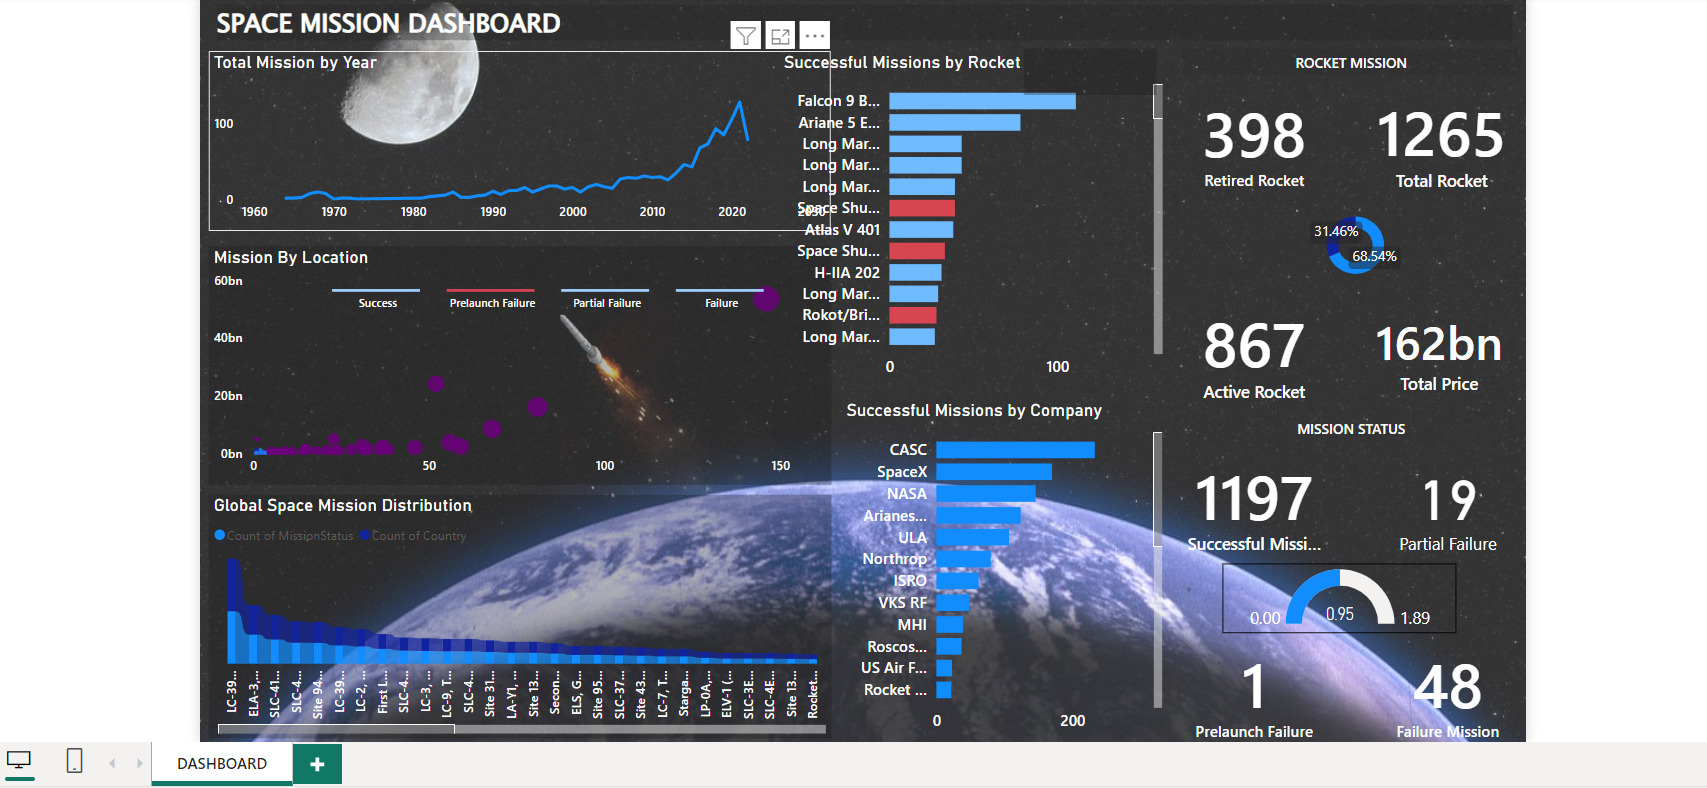

The page's visual inventory and layout, read from the dashboard file:
{"tool":"powerbi","page":{"name":"DASHBOARD","canvas":[1280,720],"ordinal":0},"visuals":[{"type":"shape","box":[8.4,0,1266.3,50.7],"z":0},{"type":"lineChart","fields":{"Y":["space_missions.Total Mission"],"Category":["Date.Year"]},"box":[8.4,53.1,600.6,173.7],"z":1000},{"type":"scatterChart","title":"Mission By Location","fields":{"X":["space_missions.Total Mission"],"Y":["space_missions.Total Price"],"Category":["space_missions.Location"],"Series":["space_missions.MissionStatus"],"Size":["CountNonNull(space_missions.MissionStatus)"]},"box":[8.4,241.2,600.6,230.4],"z":2000},{"type":"ribbonChart","title":"Global Space Mission Distribution","fields":{"Category":["space_missions.Location"],"Y":["CountNonNull(space_missions.MissionStatus)","CountNonNull(space_missions.Country)"]},"box":[8.4,481.2,600.6,235.2],"z":3000},{"type":"barChart","fields":{"Category":["space_missions.Rocket"],"Y":["space_missions.Successful Missions"]},"box":[558.4,53.1,375.1,325.6],"z":4000},{"type":"clusteredBarChart","fields":{"Category":["space_missions.Company"],"Y":["space_missions.Successful Missions"]},"box":[618.7,389.5,314.8,330.5],"z":5000},{"type":"columnChart","fields":{"Y":["space_missions.Leagend"],"Category":["space_missions.MissionStatus"]},"box":[78.4,268.9,518.6,44.6],"z":6000},{"type":"gauge","fields":{"Y":["space_missions.Success Rate"]},"box":[986.5,547.5,225.5,67.5],"z":7000},{"type":"card","fields":{"Values":["space_missions.Total Price"]},"box":[1125.2,290.7,141.1,104.9],"z":8000},{"type":"card","fields":{"Values":["space_missions.Active Rocket"]},"box":[946.7,290.7,141.1,104.9],"z":9000},{"type":"card","fields":{"Values":["space_missions.Prelaunch Failure"]},"box":[946.7,622.3,141.1,97.7],"z":10000},{"type":"card","fields":{"Values":["space_missions.Total Rocket"]},"box":[1130.1,86.8,136.3,104.9],"z":11000},{"type":"card","fields":{"Values":["space_missions.Partial Failure"]},"box":[1133.7,437.8,141.1,104.9],"z":12000},{"type":"card","fields":{"Values":["space_missions.Failure Mission"]},"box":[1133.7,622.3,141.1,97.7],"z":13000},{"type":"card","fields":{"Values":["space_missions.Retired Rocket"]},"box":[946.7,86.8,141.1,104.9],"z":14000},{"type":"card","fields":{"Values":["space_missions.Successful Missions"]},"box":[946.7,437.8,141.1,104.9],"z":15000},{"type":"donutChart","fields":{"Y":["space_missions.Active Rocket","space_missions.Retired Rocket"]},"box":[1017.9,200.2,194.2,80.8],"z":16000},{"type":"shape","box":[946.7,50.7,328,25.3],"z":17000},{"type":"shape","box":[946.7,404,328,25.3],"z":18000},{"type":"columnChart","fields":{"Y":["space_missions.Leagend"],"Category":["space_missions.RocketStatus"]},"box":[794.8,50.7,127.8,44.6],"z":19000}]}

Visuals, with their boxes on the page's 1280x720 design canvas (x1, y1, x2, y2). These are canvas units, not pixel positions in the 1707x788 screenshot, which may show the page scaled, cropped or inside an application window:
shape: locate(8, 0, 1275, 51)
lineChart - space_missions.Total Mission x Date.Year: locate(8, 53, 609, 227)
"Mission By Location" scatterChart: locate(8, 241, 609, 472)
"Global Space Mission Distribution" ribbonChart: locate(8, 481, 609, 716)
barChart - space_missions.Rocket x space_missions.Successful Missions: locate(558, 53, 934, 379)
clusteredBarChart - space_missions.Company x space_missions.Successful Missions: locate(619, 390, 934, 720)
columnChart - space_missions.Leagend x space_missions.MissionStatus: locate(78, 269, 597, 314)
gauge - space_missions.Success Rate: locate(986, 548, 1212, 615)
card - space_missions.Total Price: locate(1125, 291, 1266, 396)
card - space_missions.Active Rocket: locate(947, 291, 1088, 396)
card - space_missions.Prelaunch Failure: locate(947, 622, 1088, 720)
card - space_missions.Total Rocket: locate(1130, 87, 1266, 192)
card - space_missions.Partial Failure: locate(1134, 438, 1275, 543)
card - space_missions.Failure Mission: locate(1134, 622, 1275, 720)
card - space_missions.Retired Rocket: locate(947, 87, 1088, 192)
card - space_missions.Successful Missions: locate(947, 438, 1088, 543)
donutChart - space_missions.Active Rocket x space_missions.Retired Rocket: locate(1018, 200, 1212, 281)
shape: locate(947, 51, 1275, 76)
shape: locate(947, 404, 1275, 429)
columnChart - space_missions.Leagend x space_missions.RocketStatus: locate(795, 51, 923, 95)
